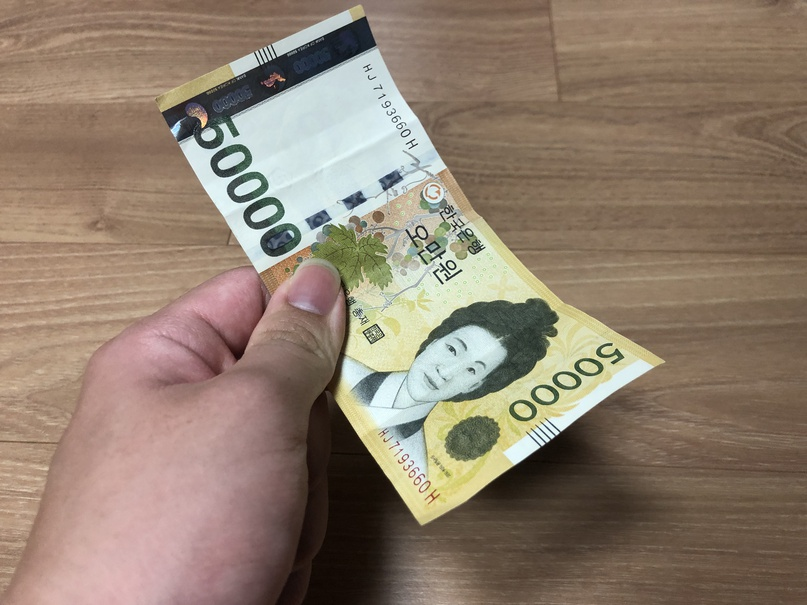50000won: (153, 5, 665, 526)
